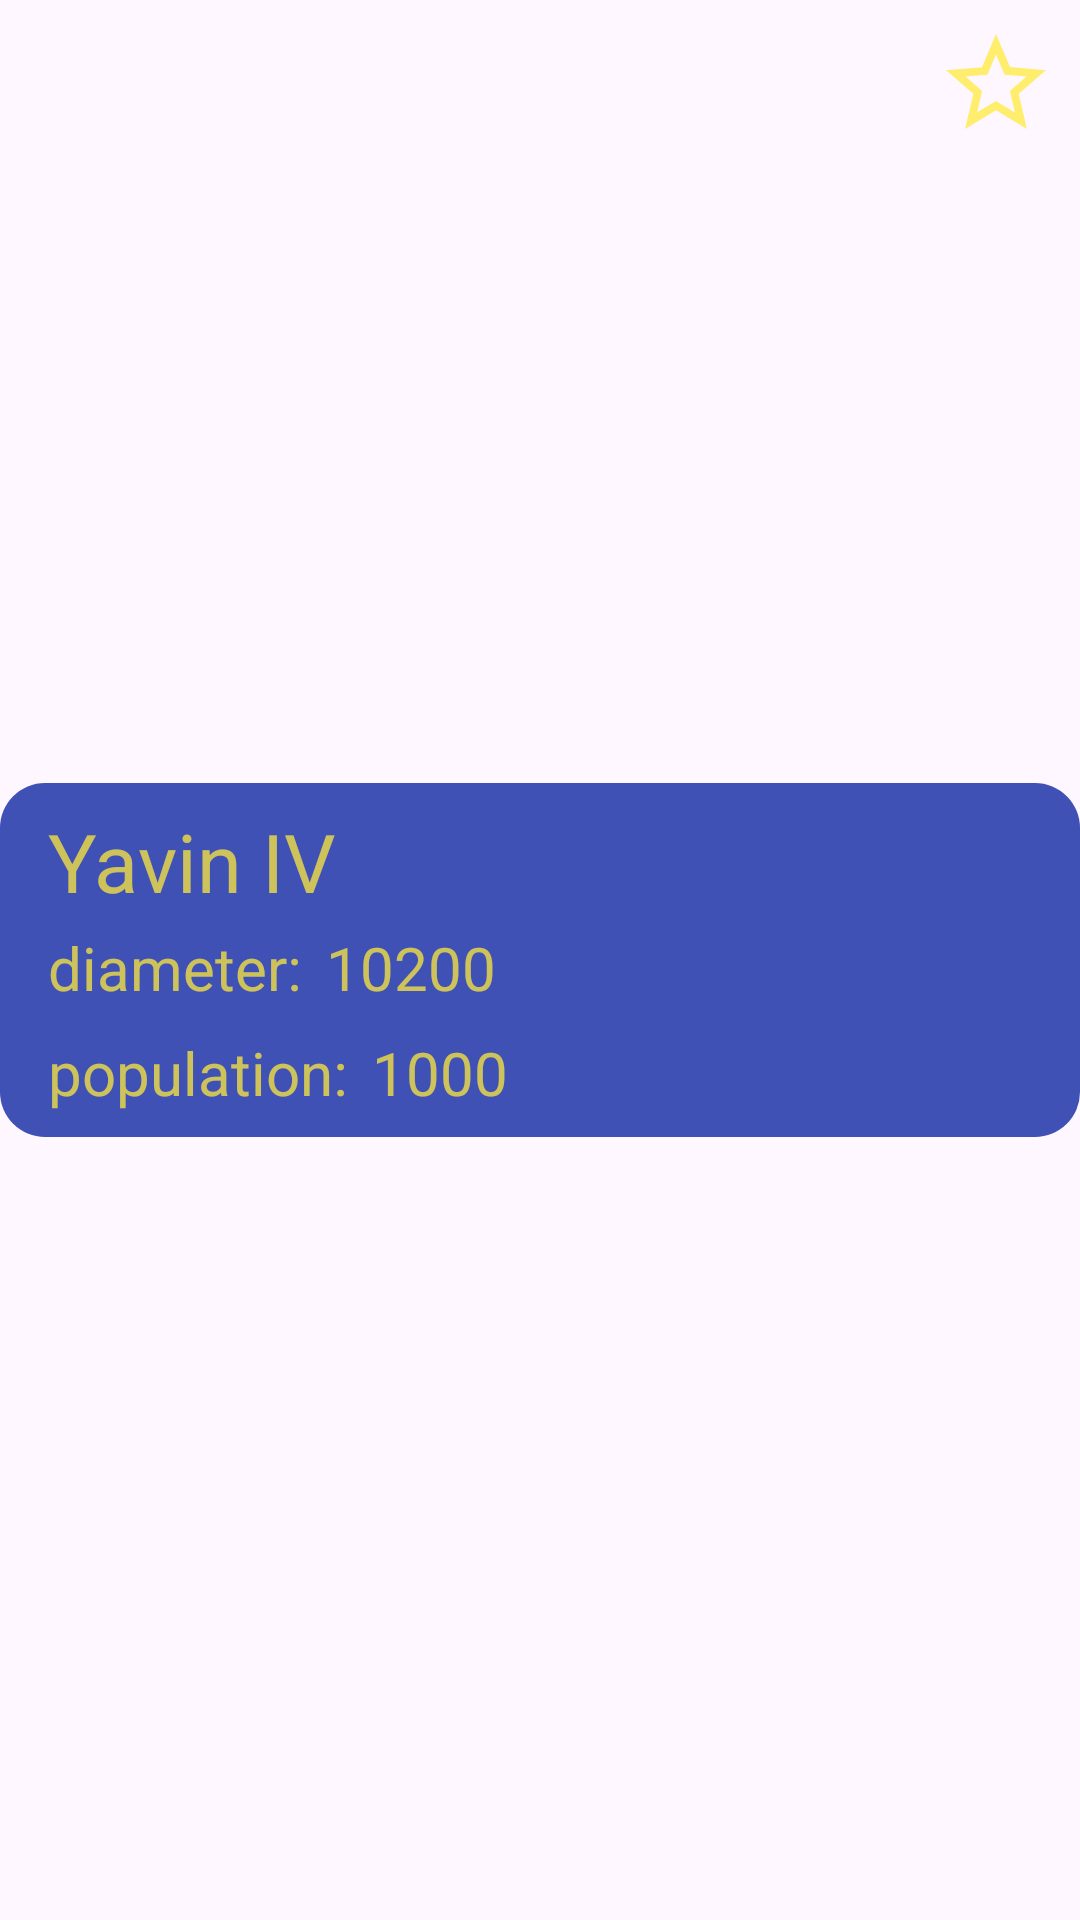

Point at icon controls on the screen. Image size 1080 × 1920, points as (x,y).
star border: (996,81)
